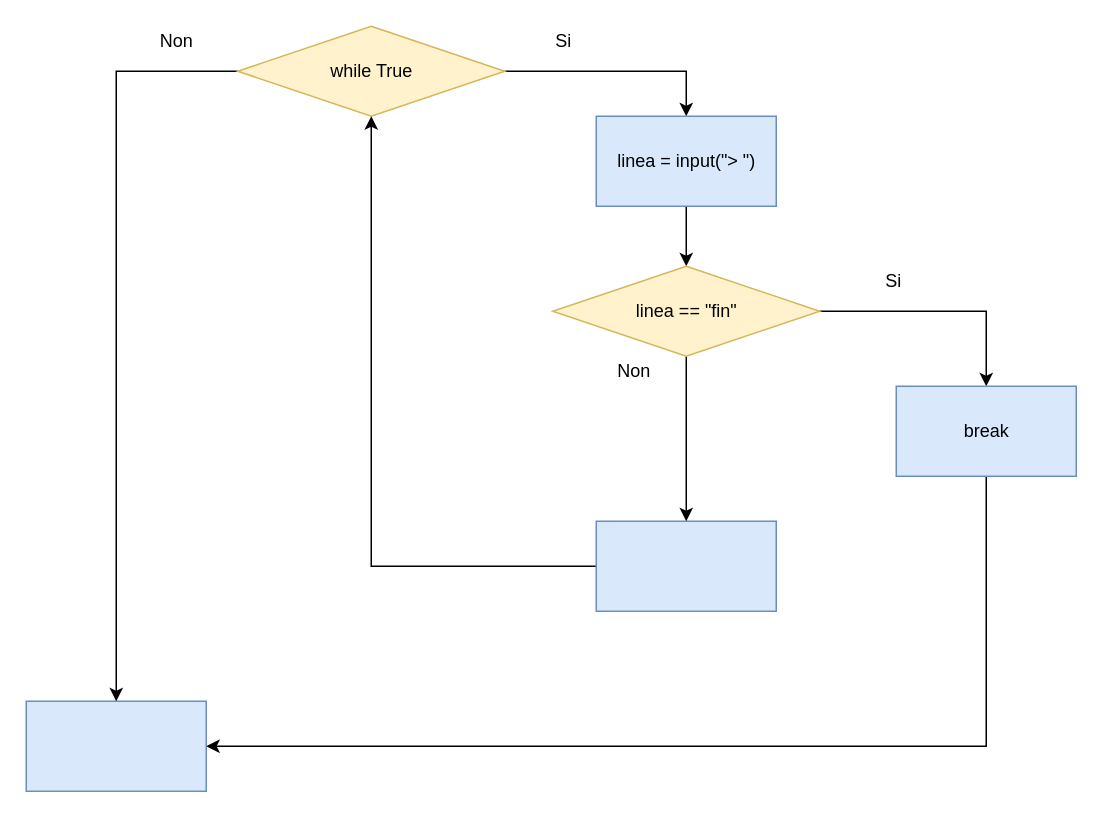
This 1103x818 diagram has some shape labels left out. Each missing label, with the centre of its shape:
print("Terminado!"): (115,745)
print(linea): (685,565)
